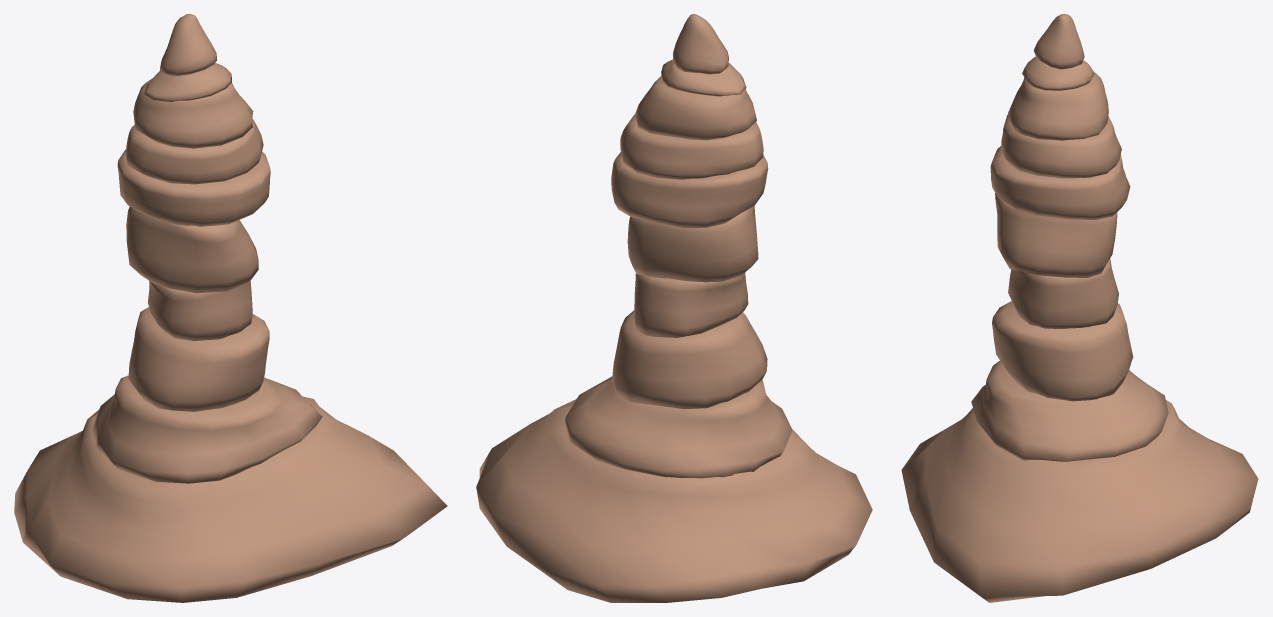
File: obs_stal_down.fbx
3 views of the same model, side by side, from view 1: azimuth 30°, elevation 25°; view 2: azimuth 150°, elevation 25°; view 3: azimuth 270°, elevation 25° (orthographic). The views are drawn at different scales.
Parts seen in each view (by area): view 1: stal.005, stal.004, stal.027, stal.029, stal, stal.002, stal.001, stal.028, stal.006, stal.003; view 2: stal.005, stal.004, stal.027, stal, stal.029, stal.028, stal.001, stal.002, stal.006, stal.003; view 3: stal.005, stal.004, stal.027, stal.029, stal, stal.028, stal.002, stal.001, stal.006, stal.003.
Part boxes in pixels (<box>): stal.005: <box>14,396,447,602</box>; stal.004: <box>91,375,322,483</box>; stal.027: <box>128,307,269,411</box>; stal.029: <box>126,206,258,293</box>; stal: <box>117,149,270,226</box>; stal.002: <box>133,78,253,148</box>; stal.001: <box>126,118,263,184</box>; stal.028: <box>147,281,252,340</box>; stal.006: <box>160,14,216,75</box>; stal.003: <box>143,63,231,101</box>; stal.005: <box>476,399,872,602</box>; stal.004: <box>565,376,792,478</box>; stal.027: <box>612,310,767,409</box>; stal: <box>611,152,768,227</box>; stal.029: <box>627,206,758,282</box>; stal.028: <box>634,272,748,337</box>; stal.001: <box>620,114,763,179</box>; stal.002: <box>635,76,756,140</box>; stal.006: <box>673,14,728,74</box>; stal.003: <box>661,59,746,96</box>; stal.005: <box>901,400,1258,602</box>; stal.004: <box>971,361,1168,461</box>; stal.027: <box>992,301,1133,401</box>; stal.029: <box>995,193,1117,277</box>; stal: <box>990,146,1130,219</box>; stal.028: <box>1008,258,1118,328</box>; stal.002: <box>1008,71,1108,140</box>; stal.001: <box>1001,115,1121,178</box>; stal.006: <box>1033,14,1084,69</box>; stal.003: <box>1022,56,1094,90</box>.
Size of the model in its own units: 0.6717 by 0.9152 by 0.5976.
